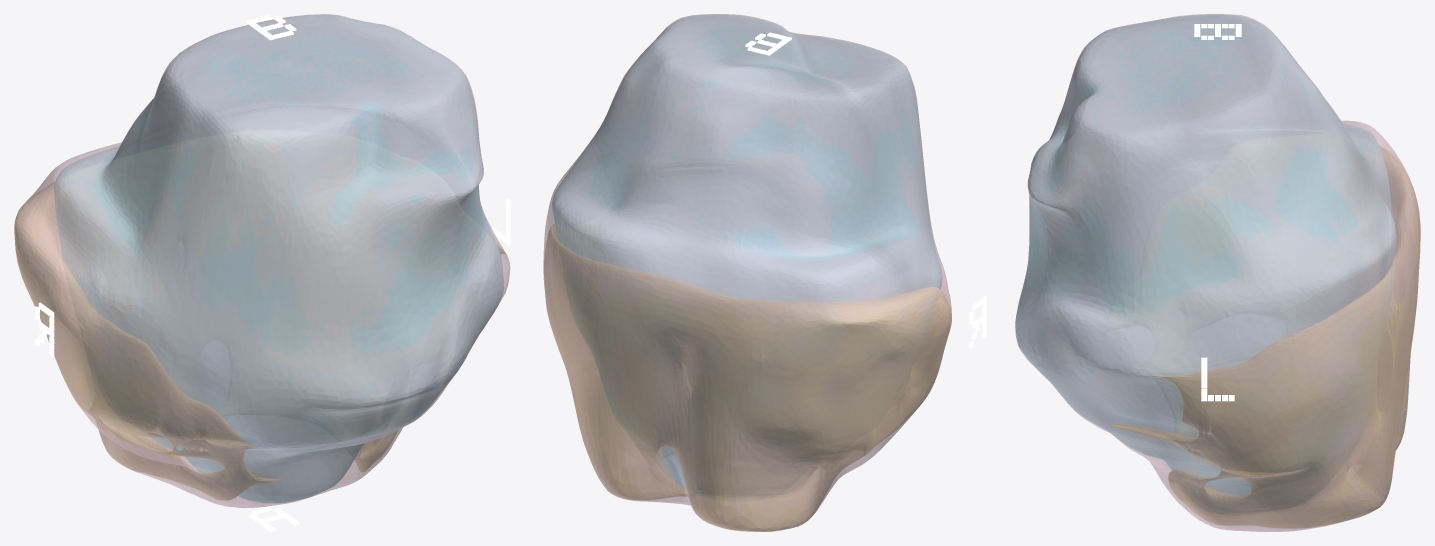
The picture shows the model from 3 angles, left to right: view 1: azimuth 30°, elevation 25°; view 2: azimuth 150°, elevation 25°; view 3: azimuth 270°, elevation 25°; orthographic projection. The views are drawn at different scales.
Visible parts, largest first — view 1: prostate_gland, transition_zone, peripheral_zone, pv_ar_marker_B, pv_ar_marker_R; view 2: prostate_gland, transition_zone, peripheral_zone, pv_ar_marker_B; view 3: prostate_gland, transition_zone, peripheral_zone, pv_ar_marker_B, pv_ar_marker_L.
Part boxes in pixels (x1,y1,x2,y2): prostate_gland: (15,14,510,508); transition_zone: (54,15,503,503); peripheral_zone: (14,172,514,500); pv_ar_marker_B: (246,15,296,40); pv_ar_marker_R: (35,302,54,356); prostate_gland: (543,14,951,531); transition_zone: (552,14,942,488); peripheral_zone: (544,224,951,531); pv_ar_marker_B: (745,32,791,55); prostate_gland: (1015,14,1420,531); transition_zone: (1015,14,1395,495); peripheral_zone: (1110,145,1420,528); pv_ar_marker_B: (1194,24,1241,39); pv_ar_marker_L: (1201,357,1234,401).
Size of the model in its own units: 0.0489 by 0.0503 by 0.0385.
